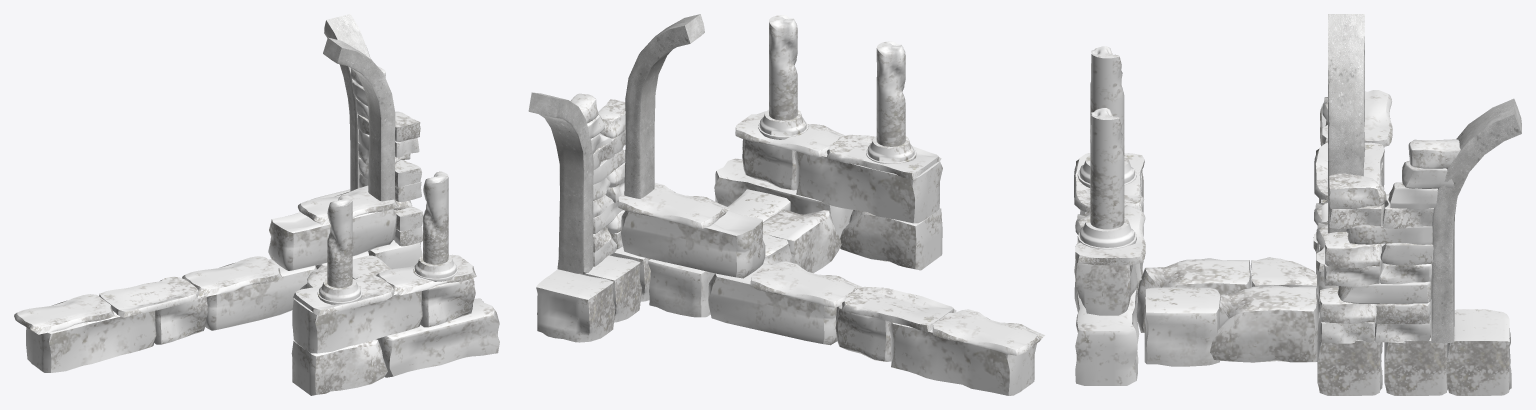
File: Ruin_2.fbx
3 views of the same model, side by side, from view 1: azimuth 30°, elevation 25°; view 2: azimuth 150°, elevation 25°; view 3: azimuth 270°, elevation 25° (orthographic). The views are drawn at different scales.
Parts seen in each view (by area): view 1: pCube77, pCube90, pCube87, pCube73, pCube92, pCube89, pCube80, pCylinder5, pCylinder6, pCube81, pCube83, pCube82 (+13 smaller); view 2: pCube73, pCube87, pCube55, pCube77, pCube92, pCube80, pCube95, pCube89, pCylinder6, pCylinder5, pCube84, pCube83 (+16 smaller); view 3: pCube85, pCube55, pCube92, pCube86, pCube95, pCylinder5, pCube90, pCube74, pCube76, pCube84, pCube88, pCylinder6 (+22 smaller).
Part boxes in pixels (x1,y1,x2,y2): pCube77: [26, 311, 156, 372]; pCube90: [376, 298, 499, 377]; pCube87: [292, 291, 422, 353]; pCube73: [268, 209, 396, 270]; pCube92: [323, 37, 395, 201]; pCube89: [291, 339, 387, 395]; pCube80: [205, 259, 316, 330]; pCylinder5: [413, 171, 457, 281]; pCylinder6: [317, 195, 362, 304]; pCube81: [99, 276, 199, 317]; pCube83: [14, 294, 114, 334]; pCube82: [182, 256, 282, 296]; pCube73: [621, 210, 765, 278]; pCube87: [794, 151, 942, 223]; pCube55: [528, 92, 593, 274]; pCube77: [889, 322, 1036, 395]; pCube92: [624, 14, 704, 198]; pCube80: [708, 263, 837, 345]; pCube95: [536, 269, 615, 342]; pCube89: [840, 208, 942, 270]; pCylinder6: [866, 41, 916, 163]; pCylinder5: [758, 15, 808, 139]; pCube84: [763, 209, 841, 273]; pCube83: [932, 309, 1044, 355]; pCube85: [1210, 285, 1317, 362]; pCube55: [1431, 98, 1521, 343]; pCube92: [1328, 14, 1364, 233]; pCube86: [1144, 287, 1220, 366]; pCube95: [1446, 309, 1511, 395]; pCylinder5: [1077, 108, 1136, 249]; pCube90: [1074, 281, 1139, 385]; pCube74: [1317, 318, 1382, 395]; pCube76: [1384, 311, 1447, 395]; pCube84: [1136, 258, 1250, 332]; pCube88: [1074, 240, 1137, 315]; pCylinder6: [1077, 46, 1136, 187].
Size of the model in its own units: 8.24 by 5.16 by 6.26.
